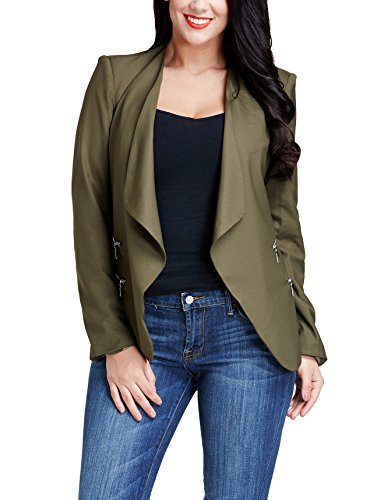F_W_suit jacket: (67, 42, 334, 363)
